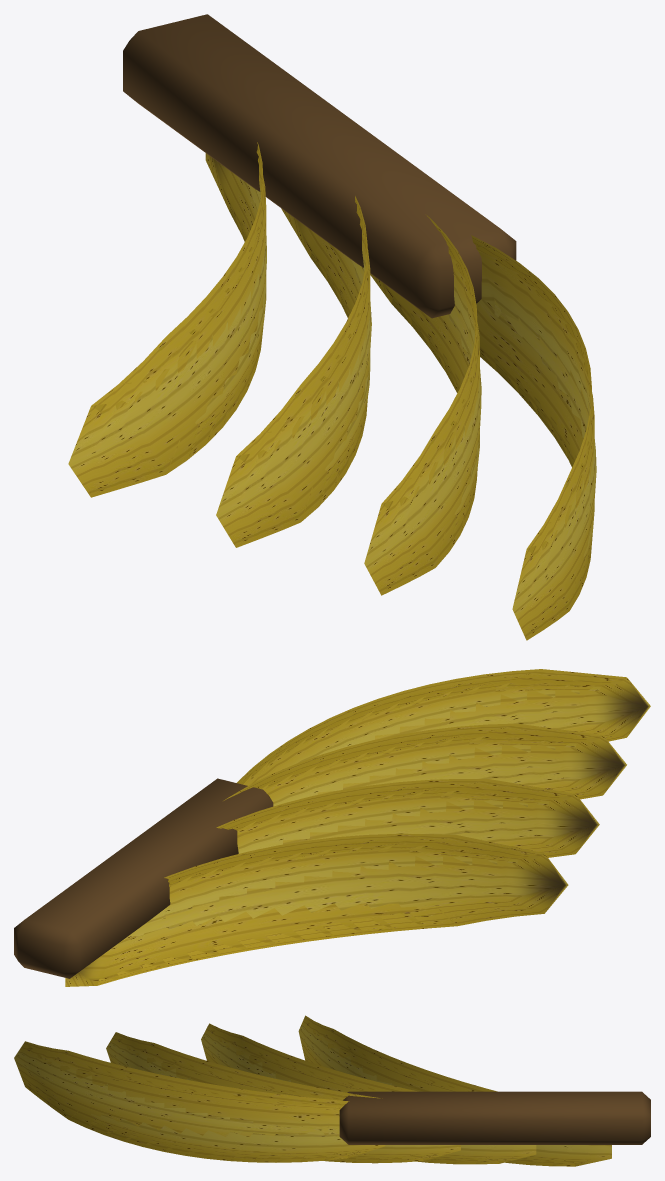
File: fruit_banana_bunch.glb
3 views of the same model, one above another, from view 1: azimuth 30°, elevation 25°; view 2: azimuth 150°, elevation 25°; view 3: azimuth 270°, elevation 25° (orthographic). The views are drawn at different scales.
Parts seen in each view (by area): view 1: fruit_banana_bunch; view 2: fruit_banana_bunch; view 3: fruit_banana_bunch.
Boxes of the visible parts, x1=… form: fruit_banana_bunch: x1=68, y1=14, x2=596, y2=640; fruit_banana_bunch: x1=14, y1=669, x2=650, y2=986; fruit_banana_bunch: x1=14, y1=1015, x2=650, y2=1166.
Size of the model in its own units: 0.1294 by 0.044 by 0.2865.
2 materials, 1 textured.
